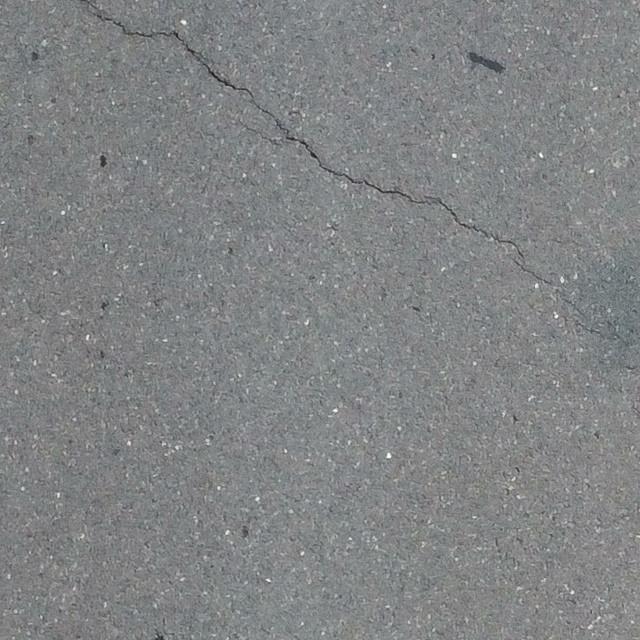TransverseCrack: (86, 1, 593, 325)
